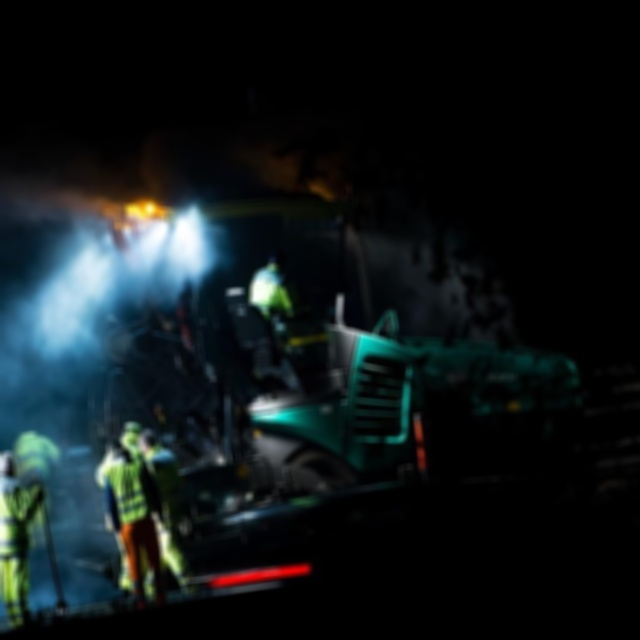Con_Chaleco: (104, 455, 152, 524), (0, 474, 33, 556)
Sin_Casco_Mascarrilla: (0, 450, 18, 476), (105, 436, 125, 458)
